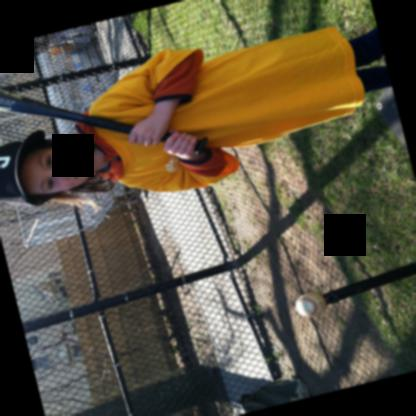backpack: (242, 375, 311, 413), (16, 36, 50, 55)
